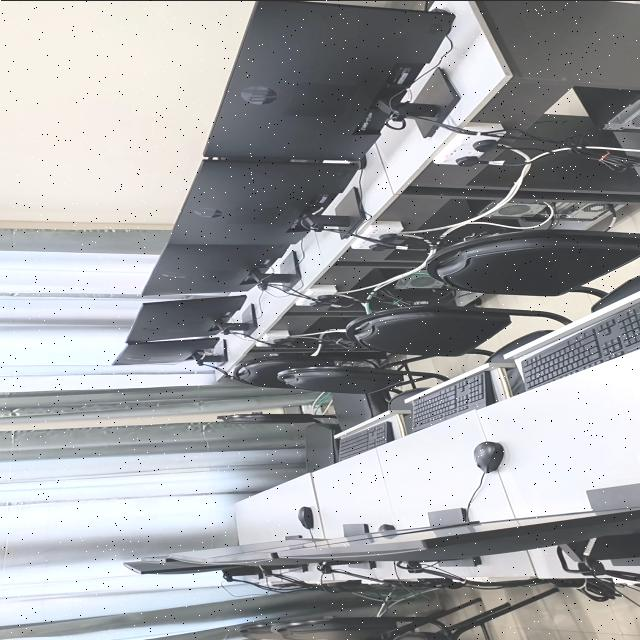Chair: (241, 587, 558, 640), (425, 229, 640, 295), (346, 305, 571, 361), (229, 353, 387, 429), (278, 356, 448, 413), (218, 412, 340, 471), (592, 274, 640, 311), (519, 272, 531, 278)
Cpu: (491, 201, 622, 226), (574, 86, 640, 130), (395, 273, 445, 288)
Keyboard: (515, 296, 640, 390), (412, 369, 496, 431), (337, 421, 394, 460)
Monitor: (204, 0, 454, 158), (274, 509, 640, 561), (170, 158, 358, 247), (143, 241, 288, 294), (128, 294, 246, 341), (169, 538, 321, 563), (113, 337, 227, 363), (123, 556, 239, 573)
Mouse: (474, 441, 504, 472), (298, 506, 313, 528)
